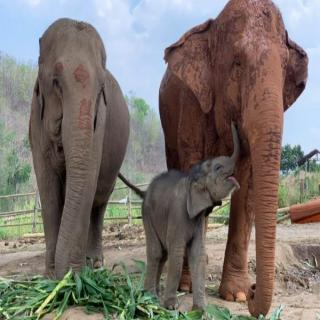Elephant: (157, 1, 314, 319), (24, 14, 134, 288), (141, 122, 244, 320)
